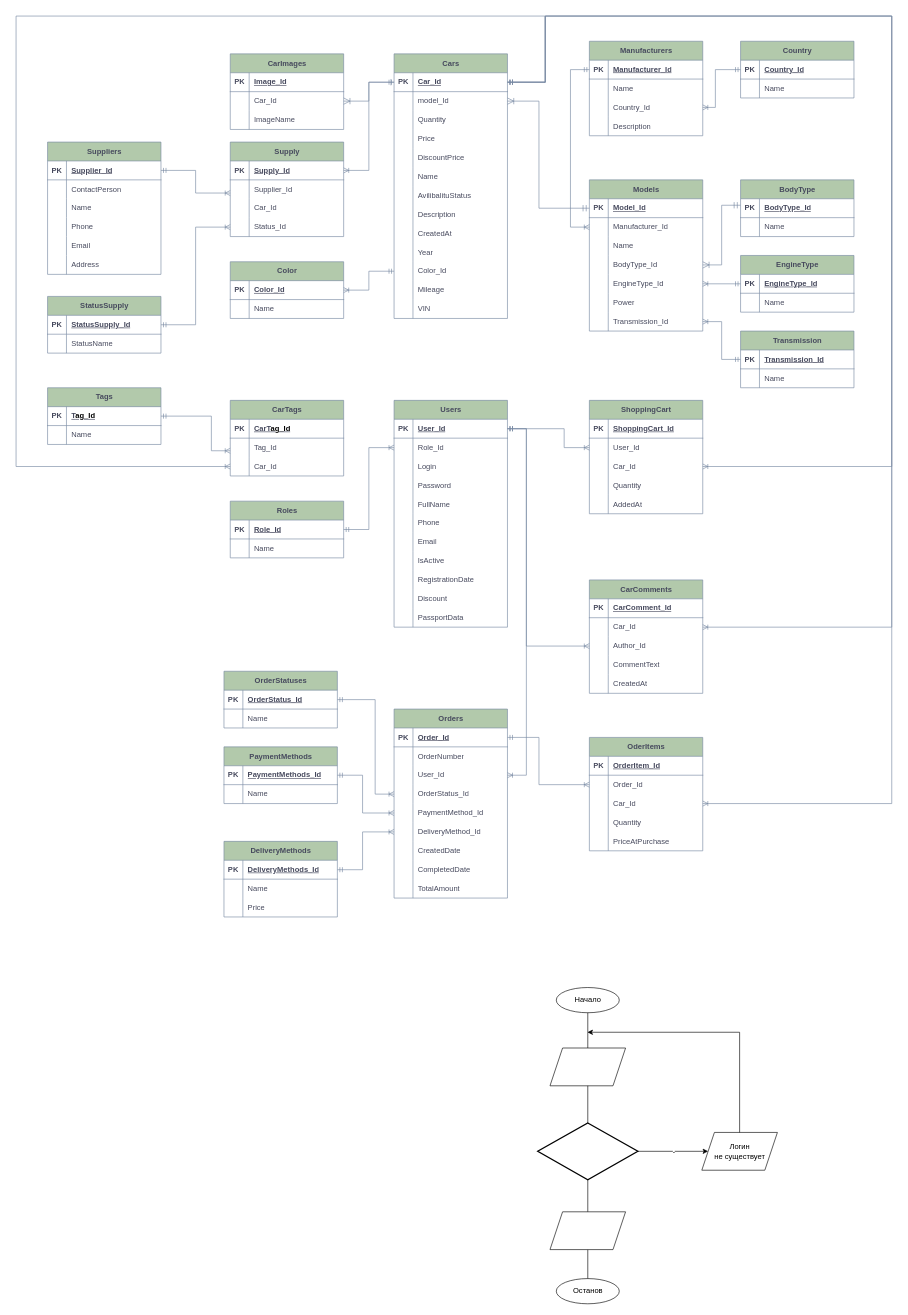
Image size: 908x1315. Some labels were removed from this diagram. Here are the shapes that lost their labels. From the top down, the centre of each, then its label:
At [587,1066]: "Ввод данных: логин, пароль".
At [587,1151]: "Существует ли логин Данные валидны".
At [587,1230]: "Успешная авторизация".
